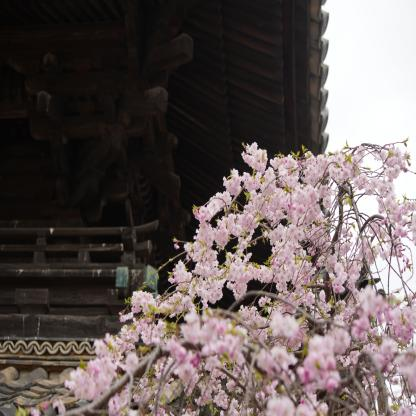YaeSakura: (17, 137, 415, 416)
